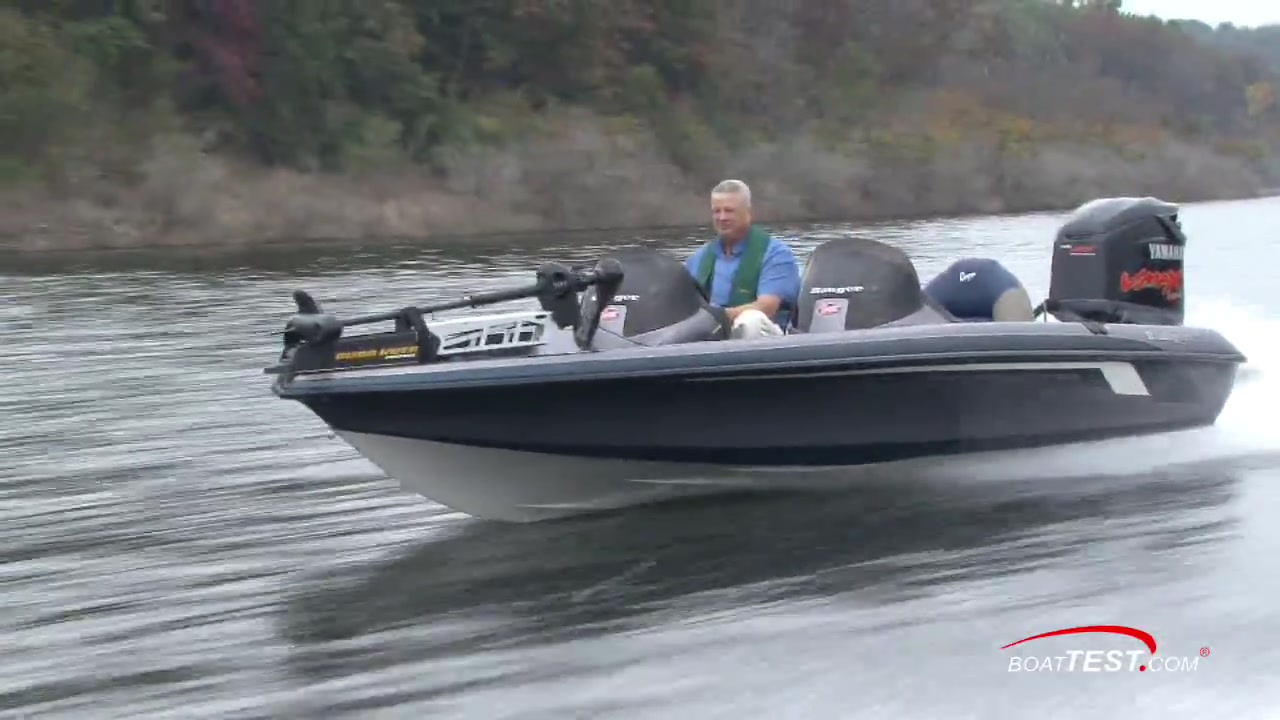boat: (264, 195, 1242, 512)
